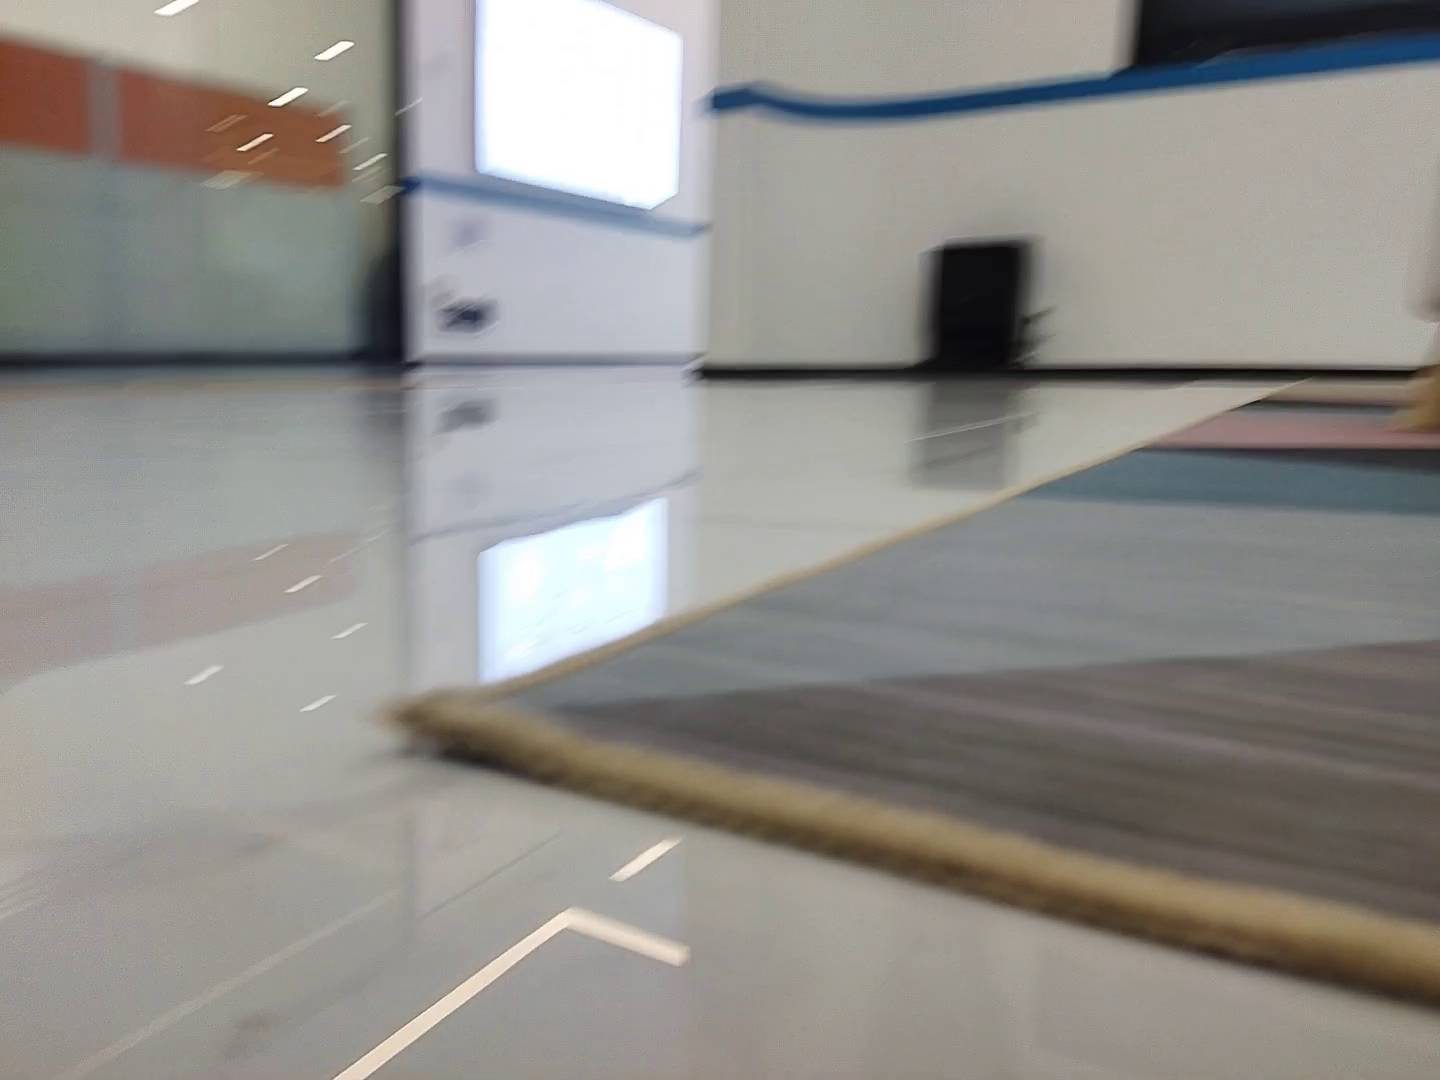dust collecting barrel: (906, 236, 1043, 382)
